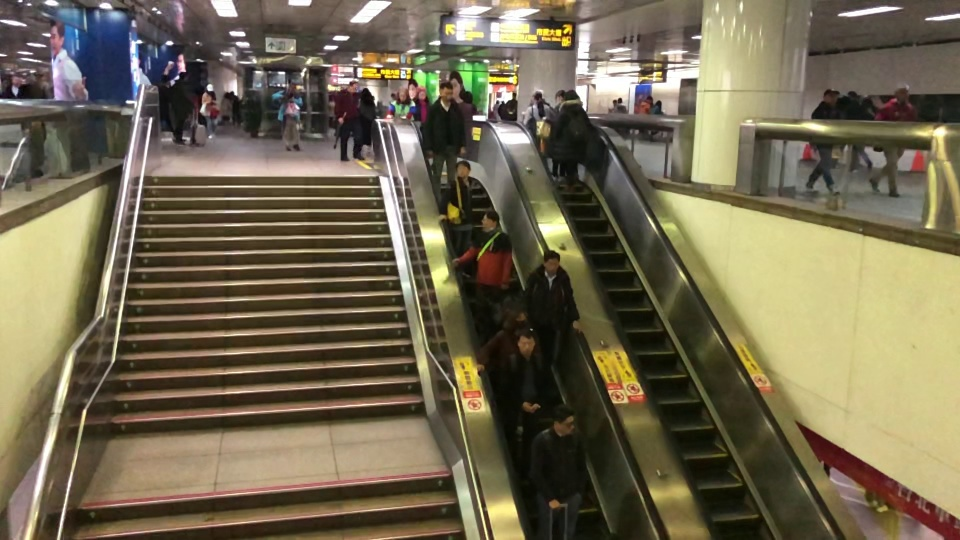person_head: (548, 405, 577, 438), (516, 333, 537, 361), (478, 211, 501, 236), (504, 297, 527, 321), (541, 251, 562, 275), (892, 83, 910, 108), (819, 86, 840, 106), (524, 89, 545, 107), (456, 159, 472, 179), (281, 81, 298, 97), (568, 90, 583, 108), (438, 84, 453, 101), (202, 80, 216, 97), (361, 86, 376, 101), (9, 70, 23, 86), (177, 72, 191, 86), (345, 80, 359, 94), (416, 87, 430, 101), (552, 90, 566, 103), (397, 89, 409, 104), (848, 89, 858, 106), (656, 99, 666, 115), (607, 98, 619, 109), (643, 93, 650, 107), (618, 96, 624, 108), (509, 92, 516, 102)
person_vbox: (516, 403, 590, 526), (448, 210, 513, 341), (523, 251, 584, 376), (866, 83, 916, 200), (501, 331, 554, 429), (802, 87, 847, 194), (479, 297, 531, 385), (431, 83, 465, 204), (556, 89, 594, 186), (438, 158, 473, 255), (842, 87, 880, 176), (267, 80, 308, 154), (329, 80, 363, 161), (163, 71, 198, 148), (542, 88, 570, 180), (518, 87, 549, 151), (192, 80, 223, 140), (356, 86, 381, 150), (388, 87, 417, 124), (1, 69, 30, 104), (633, 90, 654, 136), (415, 86, 434, 129), (652, 97, 670, 138), (609, 94, 630, 121), (506, 91, 515, 122), (604, 95, 616, 118)
